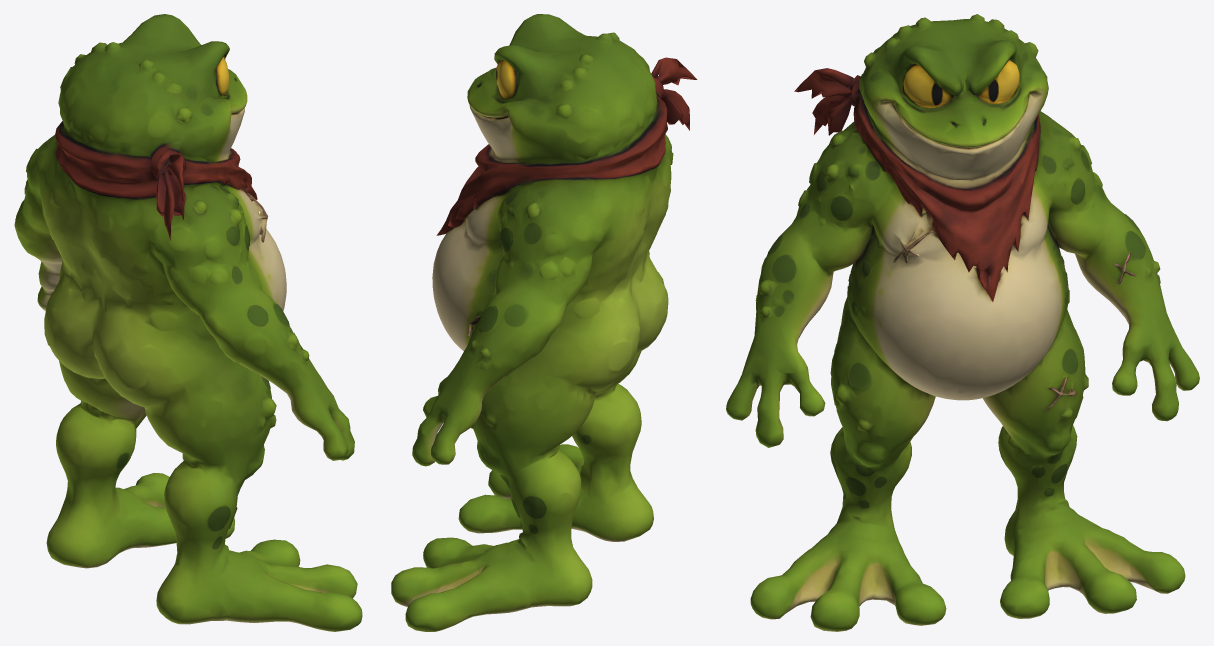
Rendered from frog.glb.
3 renders of one model, left to right at view 1: azimuth 30°, elevation 25°; view 2: azimuth 150°, elevation 25°; view 3: azimuth 270°, elevation 25°, orthographic. The views are drawn at different scales.
Parts seen in each view (by area): view 1: tripo_node_a7484887-3ad1-4bc8-83d7-464557c15ebf; view 2: tripo_node_a7484887-3ad1-4bc8-83d7-464557c15ebf; view 3: tripo_node_a7484887-3ad1-4bc8-83d7-464557c15ebf.
Part boxes in pixels (<box>): tripo_node_a7484887-3ad1-4bc8-83d7-464557c15ebf: <box>14,14,362,631</box>; tripo_node_a7484887-3ad1-4bc8-83d7-464557c15ebf: <box>391,14,697,631</box>; tripo_node_a7484887-3ad1-4bc8-83d7-464557c15ebf: <box>726,14,1199,631</box>.
Bounding box in the file's own units: 0.434 × 1 × 0.7898.
1 material, 1 textured.
